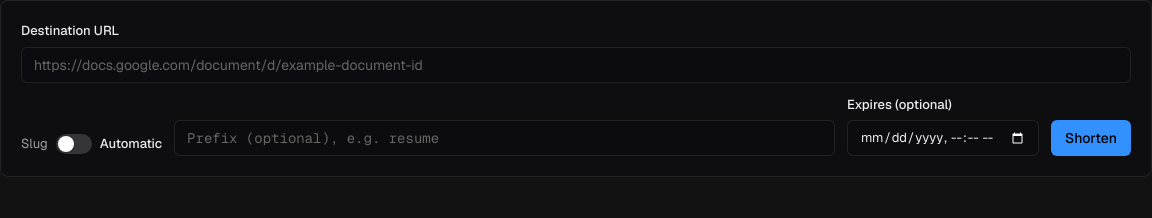
Scenario: CreateForm validation › rejects an empty destination URL
Click the button "Shorten" at (1091, 138), box [1051, 120, 1131, 156]
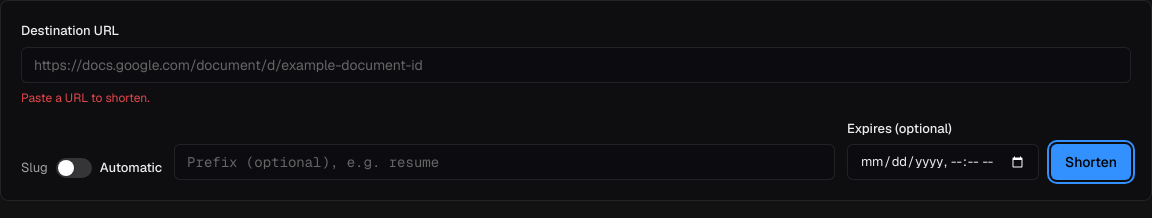
Now the text "Paste a URL to shorten." is shown, box [21, 90, 150, 106]
